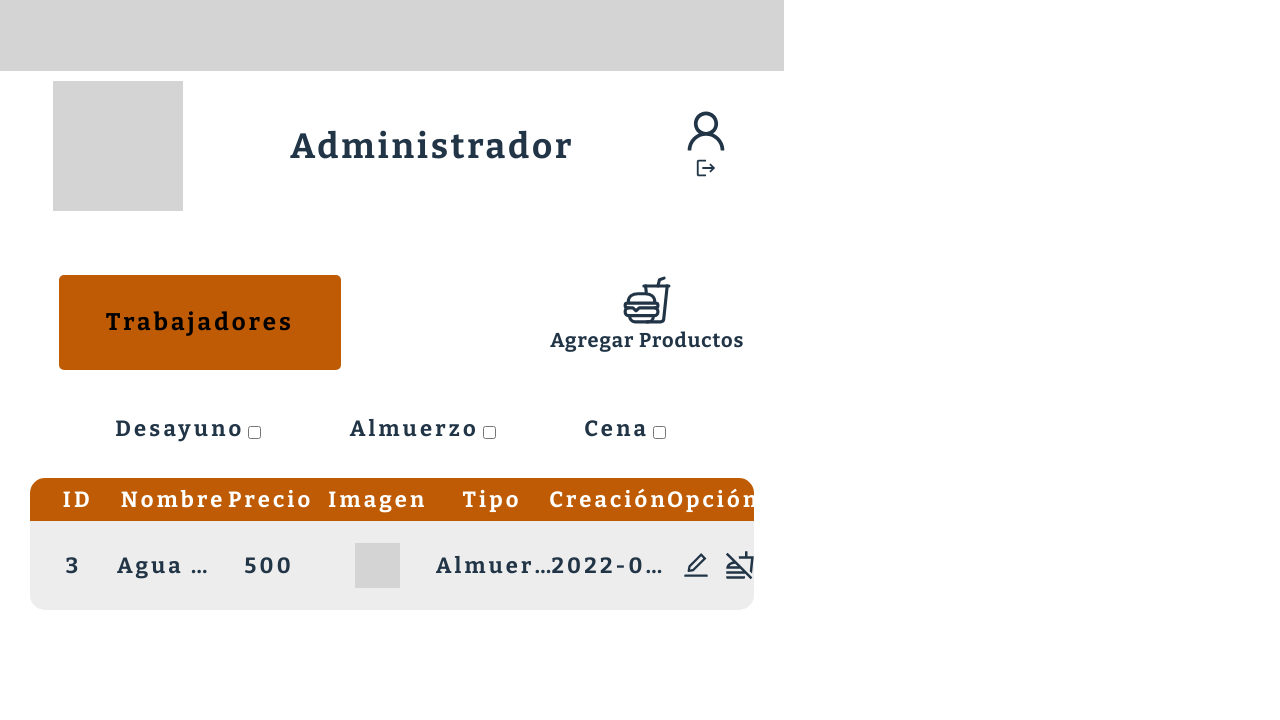
Products component › have a button for editing product
(page scrolled)
expect the element with test id "tableProducts" is shown: met, box [30,478,754,690]
Click the icon with test id "checkEditProduct" at (696, 565), box [681,550,711,580]
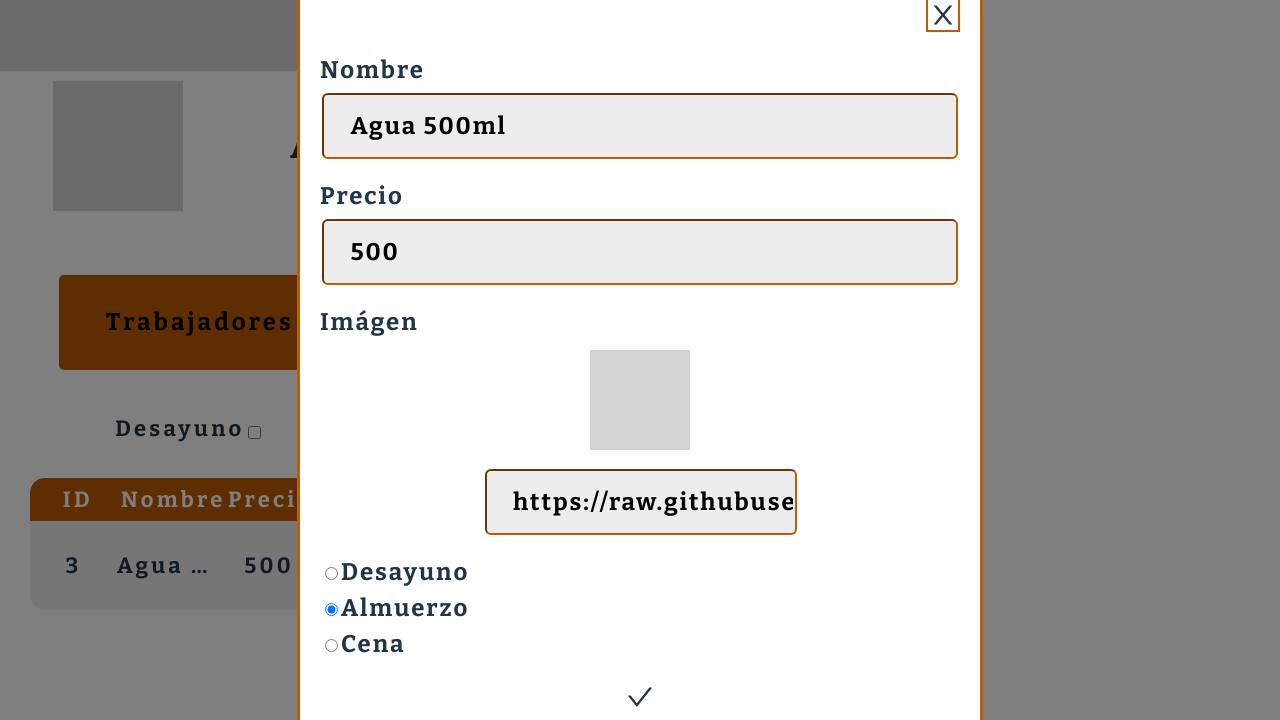
expect the element with id "modalEditProduct" is shown: met
